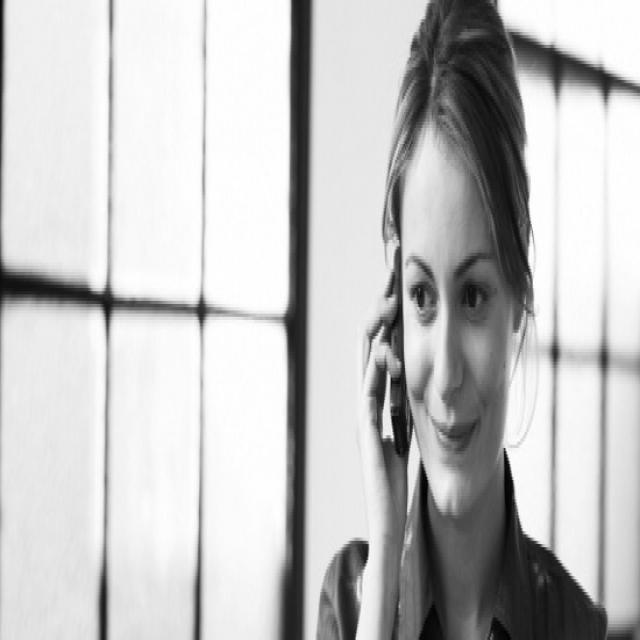phone: (348, 182, 443, 516)
